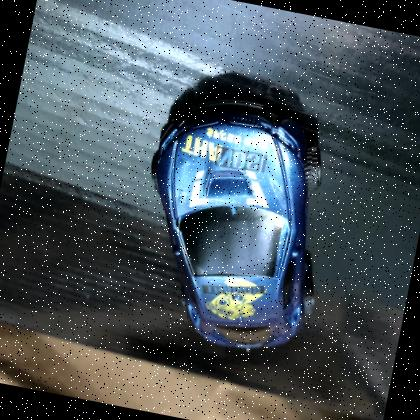Car: (150, 97, 315, 348)
